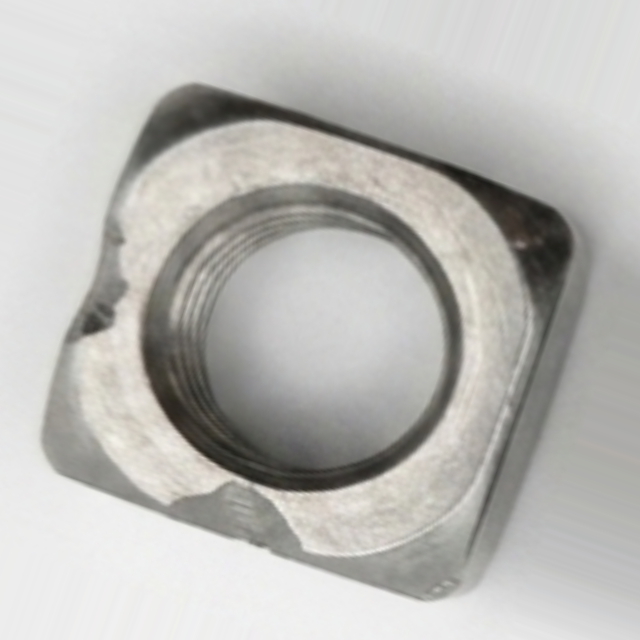defect: (142, 479, 307, 564), (65, 192, 132, 345)
